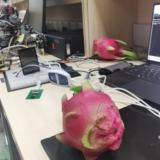pitaya: (57, 80, 124, 160)
